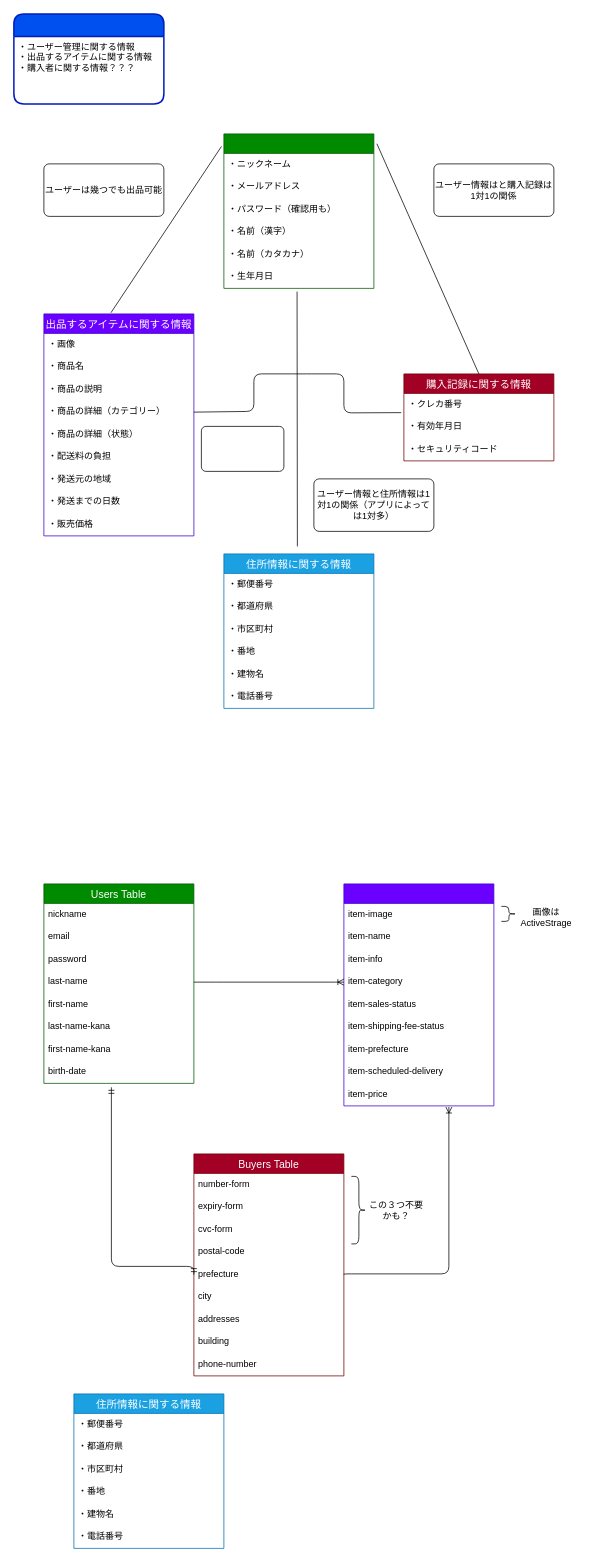
Image size: 589x1563. Some labels were removed from this diagram. Here are the shapes that lost their labels. From the top down, the box of each, then its label:
(13, 13, 164, 104): Entity
(223, 133, 374, 288): ユーザー管理に関する情報
(201, 426, 284, 471): アイテム情報と購入記録は 1対1の関係
(343, 883, 494, 1106): Items Table
